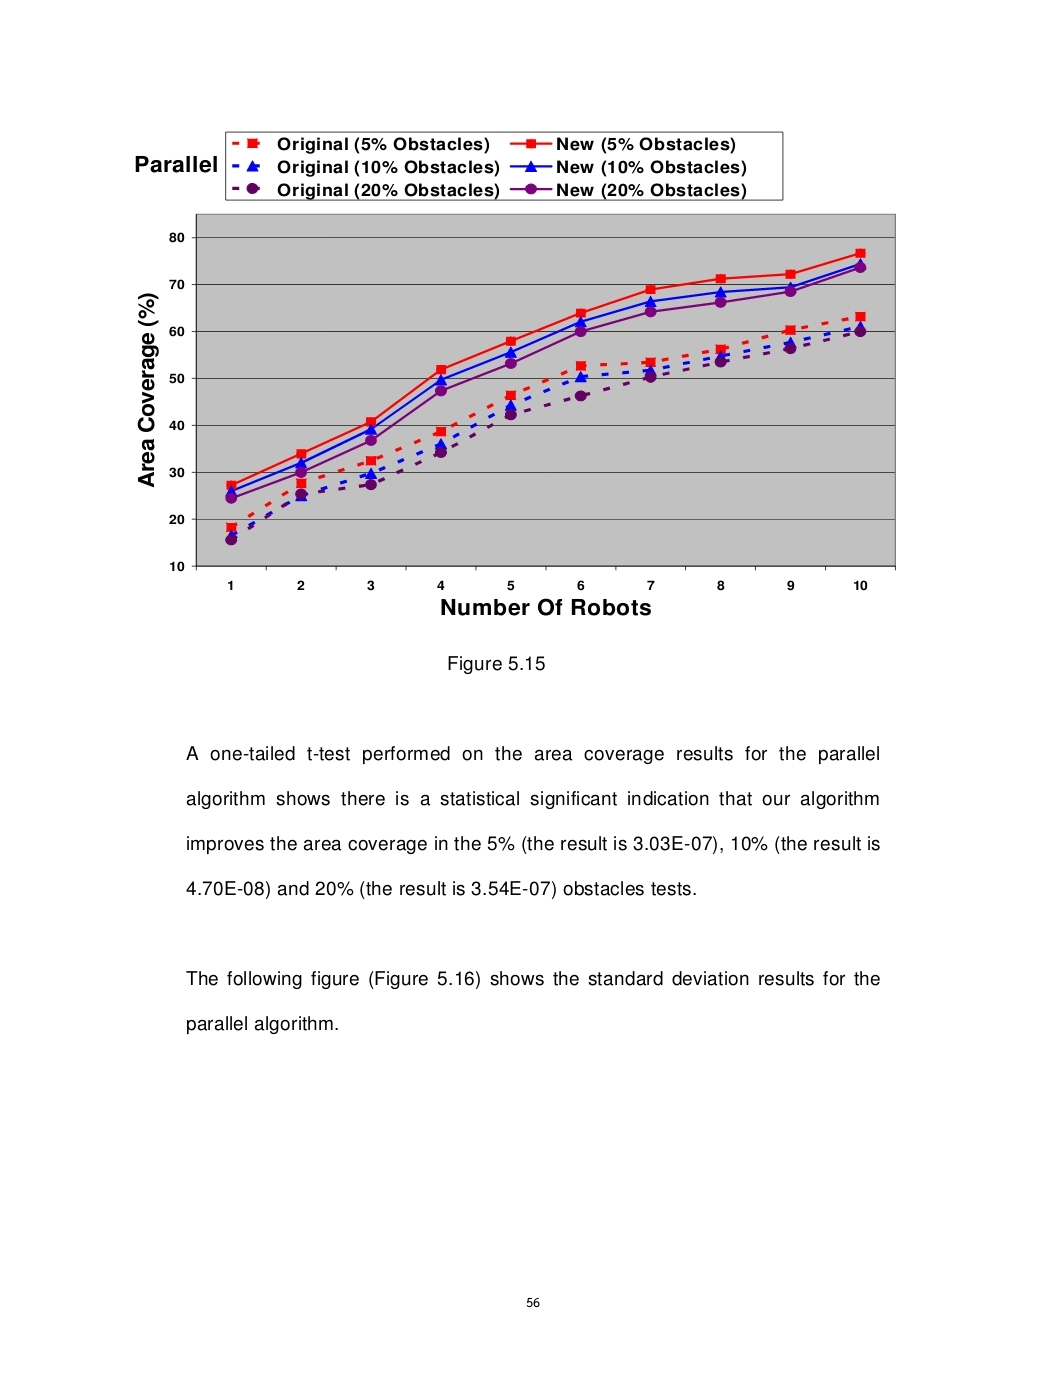figure: (135, 132, 895, 615)
